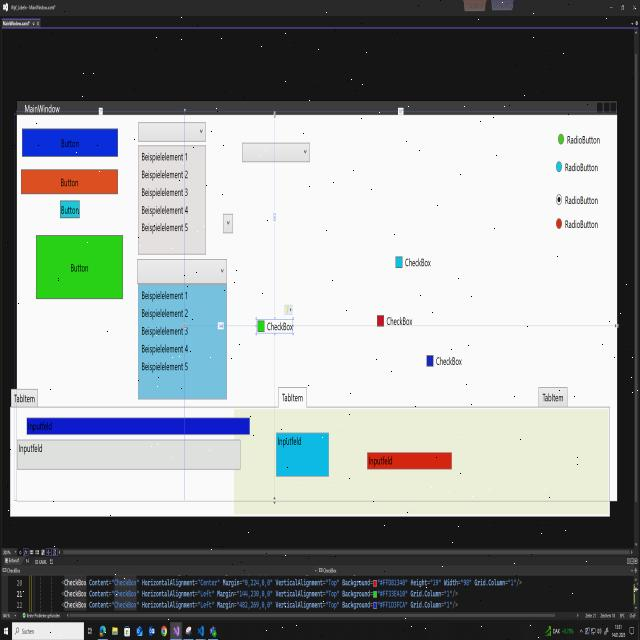button: (35, 232, 125, 302), (20, 125, 119, 159), (20, 166, 119, 198), (59, 199, 80, 219)
checkbox: (376, 314, 386, 329), (426, 353, 434, 369), (256, 319, 265, 333), (395, 254, 403, 269)
dropdownMenu: (136, 256, 228, 401), (137, 120, 207, 256), (240, 140, 312, 165), (222, 211, 234, 236)
input: (17, 438, 242, 471), (26, 416, 251, 436), (275, 428, 332, 479), (365, 447, 453, 472)
label: (565, 162, 599, 173), (565, 195, 598, 205), (565, 219, 598, 229), (266, 320, 293, 332), (436, 354, 462, 366), (404, 257, 432, 268), (386, 315, 413, 326), (567, 135, 600, 144)
menuItem: (141, 288, 190, 303), (141, 323, 189, 338), (140, 204, 190, 218), (141, 167, 190, 181), (141, 360, 188, 374), (141, 220, 189, 233), (142, 150, 190, 163), (141, 187, 190, 199), (141, 306, 190, 318), (141, 342, 189, 354)
radio: (557, 133, 565, 145), (555, 160, 562, 173), (556, 193, 562, 206), (556, 217, 562, 229)
tabControl: (535, 382, 570, 410), (10, 385, 40, 411), (276, 386, 308, 410)
